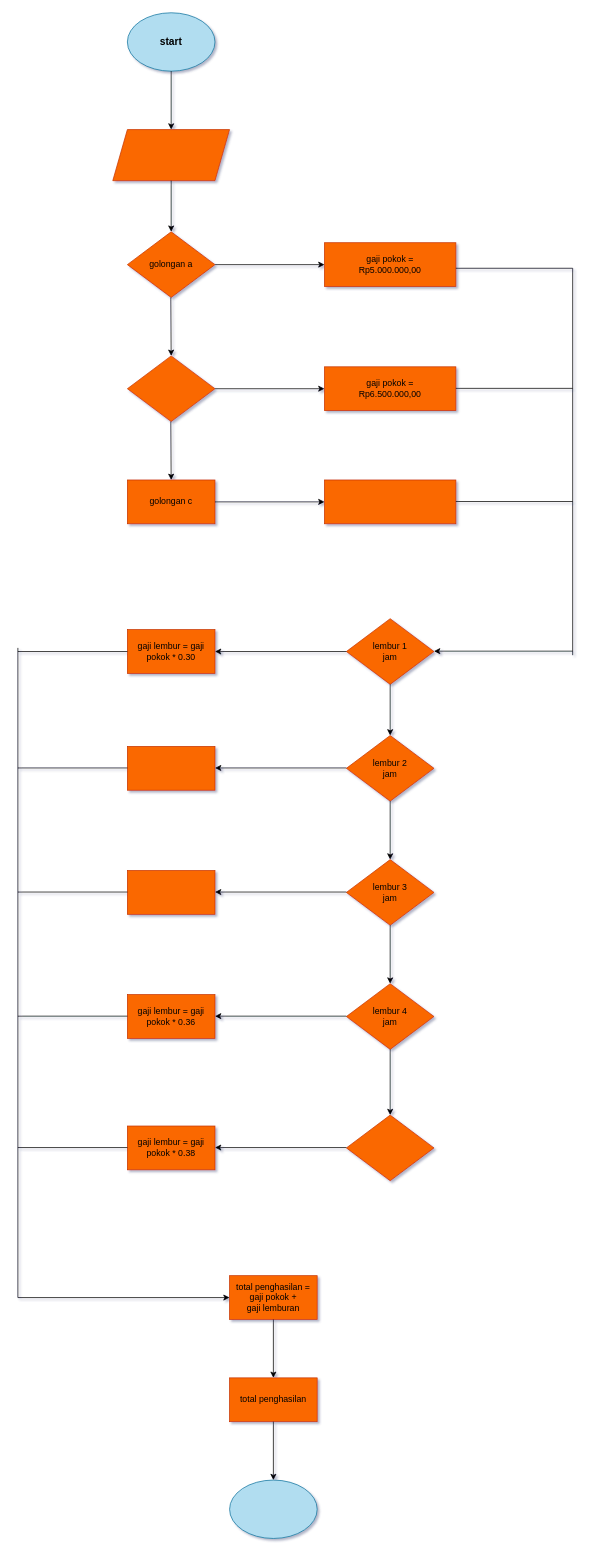
Some shapes in this 596 by 1556 pixel diagram are drawn without their labels. Each missing label, with the centre of its shape:
end: [273,1508]
gaji lembur = gaji pokok * 0.32: [171,768]
gaji lembur = gaji pokok * 0.34: [171,892]
gaji pokok = Rp9.500.000,00: [390,501]
golongan b: [171,388]
input golongan input jam lembur: [171,155]
lembur >= 5 jam: [390,1147]
